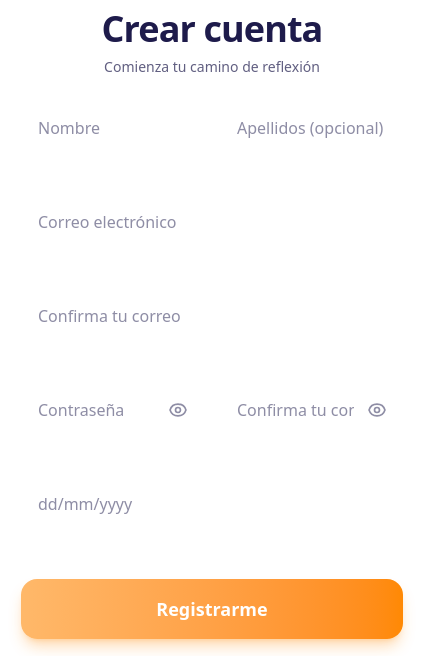
Test: RegisterPage › clears field validation messages as each field is corrected
Click the button "Registrarme".
click(212, 609)  # box [21,579,403,639]
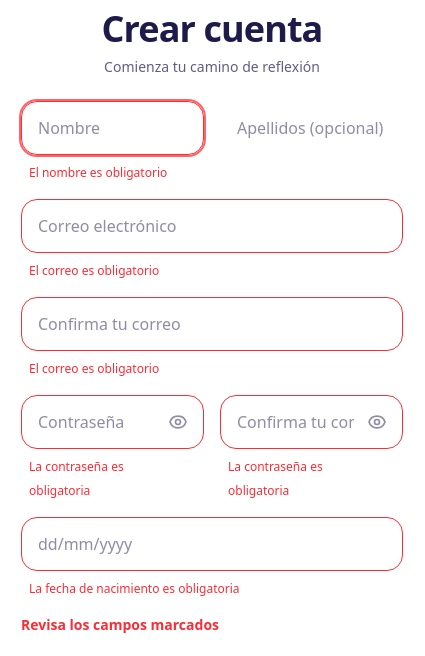
Result: the text "El nombre es obligatorio" is shown at [29,164,167,181]
Type "Ana" into the field with placeholder "Nombre".
click(112, 128); type("Ana")  # box [21,101,204,155]
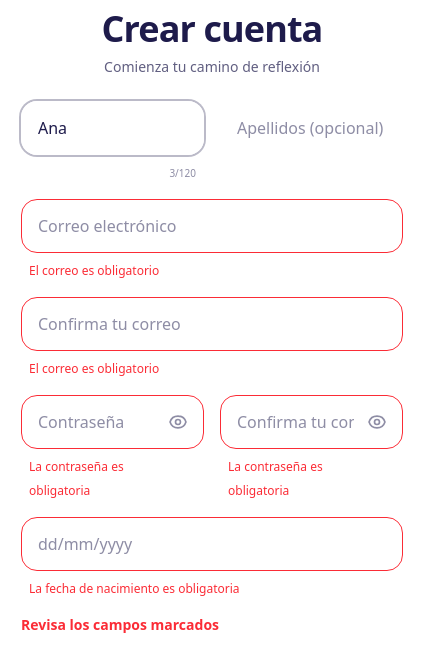
Result: the 1st text "El correo es obligatorio" is shown at [29,262,159,279]
Result: the text "El nombre es obligatorio" is gone
Type "ana@example.com" into the field with placeholder "Correo electrónico".
click(212, 226); type("ana@example.com")  # box [21,199,403,253]
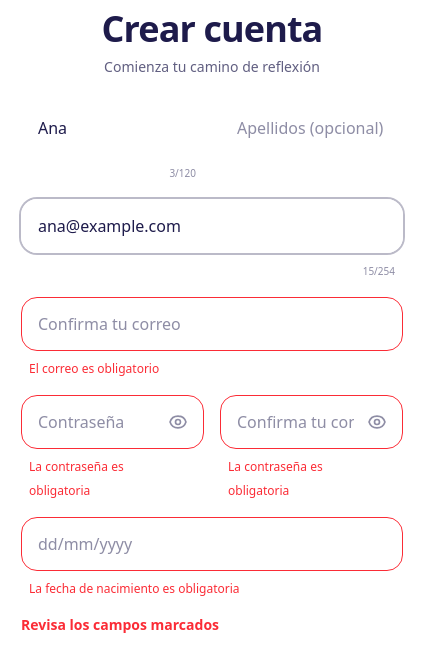
Result: the text "El correo es obligatorio" is shown once at [29,360,159,377]
Type "ana@example.com" into the field with placeholder "Confirma tu correo".
click(212, 324); type("ana@example.com")  # box [21,297,403,351]
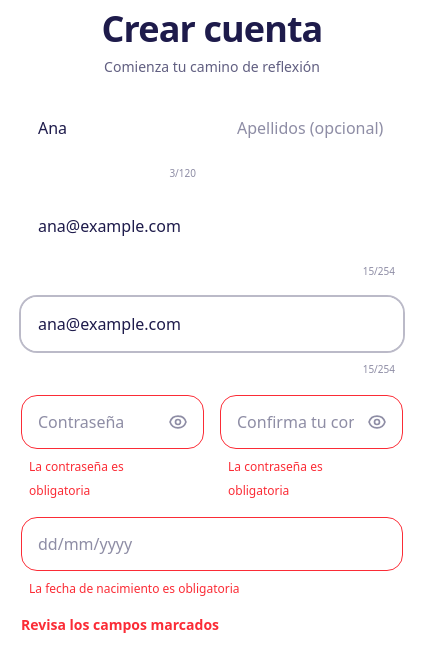
Result: the text "El correo es obligatorio" is gone
